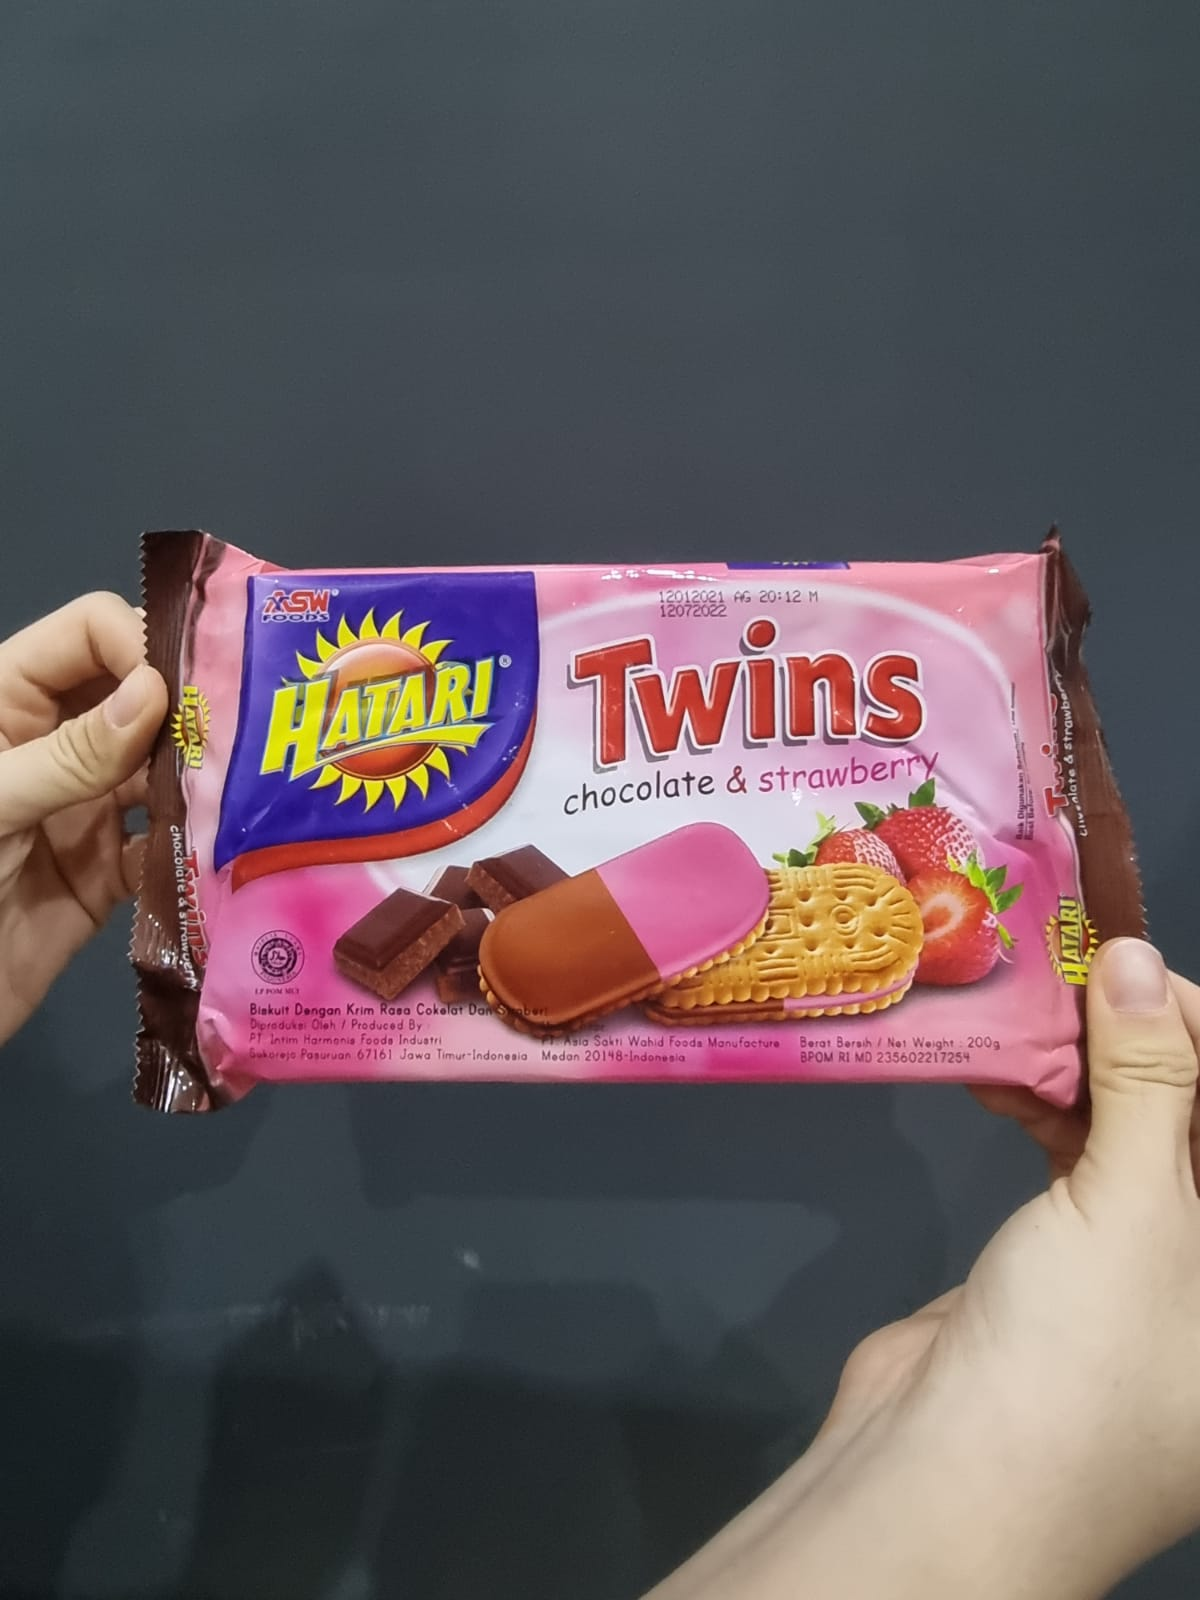Biscuits: (156, 568, 1100, 1066)
